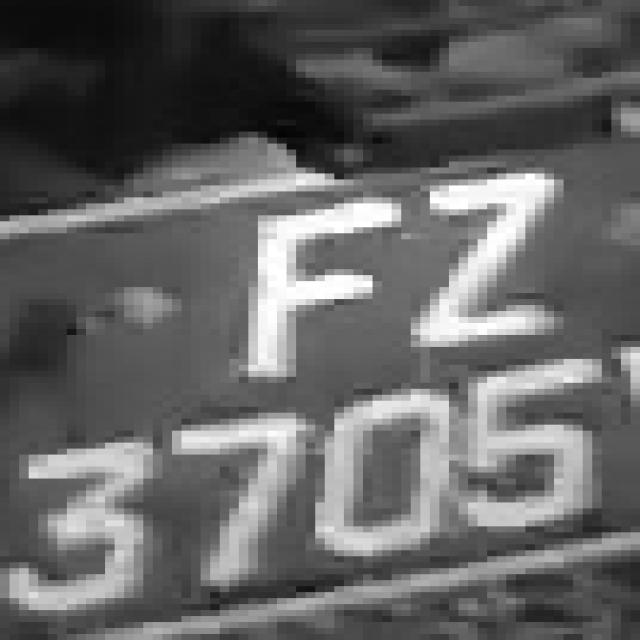0: (296, 383, 449, 574)
3: (19, 419, 153, 622)
5: (458, 371, 621, 562)
7: (153, 407, 325, 598)
F: (229, 155, 401, 377)
Z: (410, 161, 582, 365)
